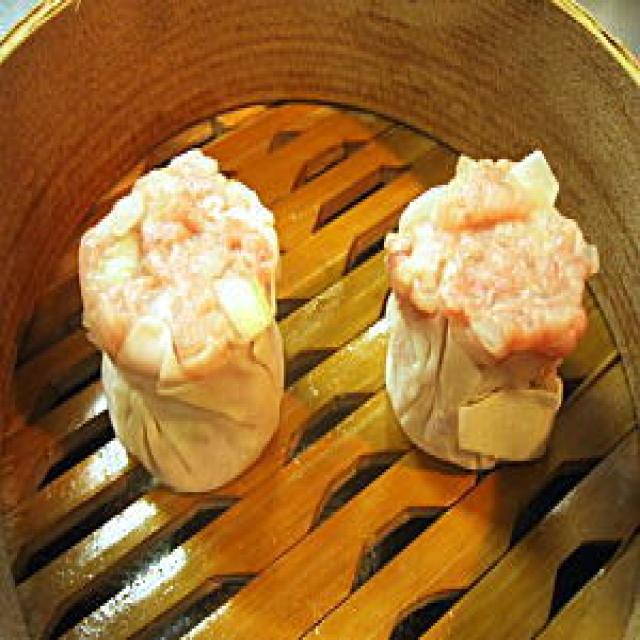带馅早点: (64, 140, 602, 472)
